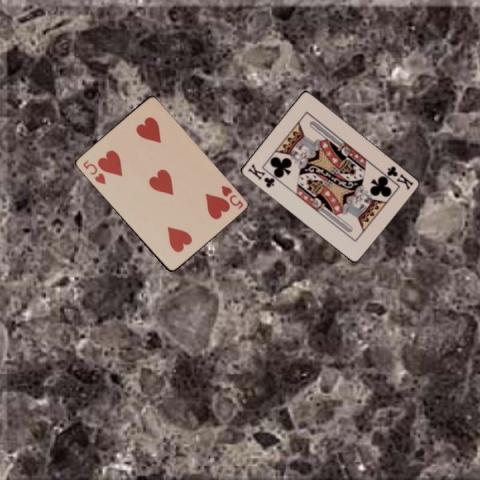5h: (79, 157, 107, 186), (218, 182, 245, 211)
Kc: (383, 164, 415, 192), (245, 162, 276, 190)
